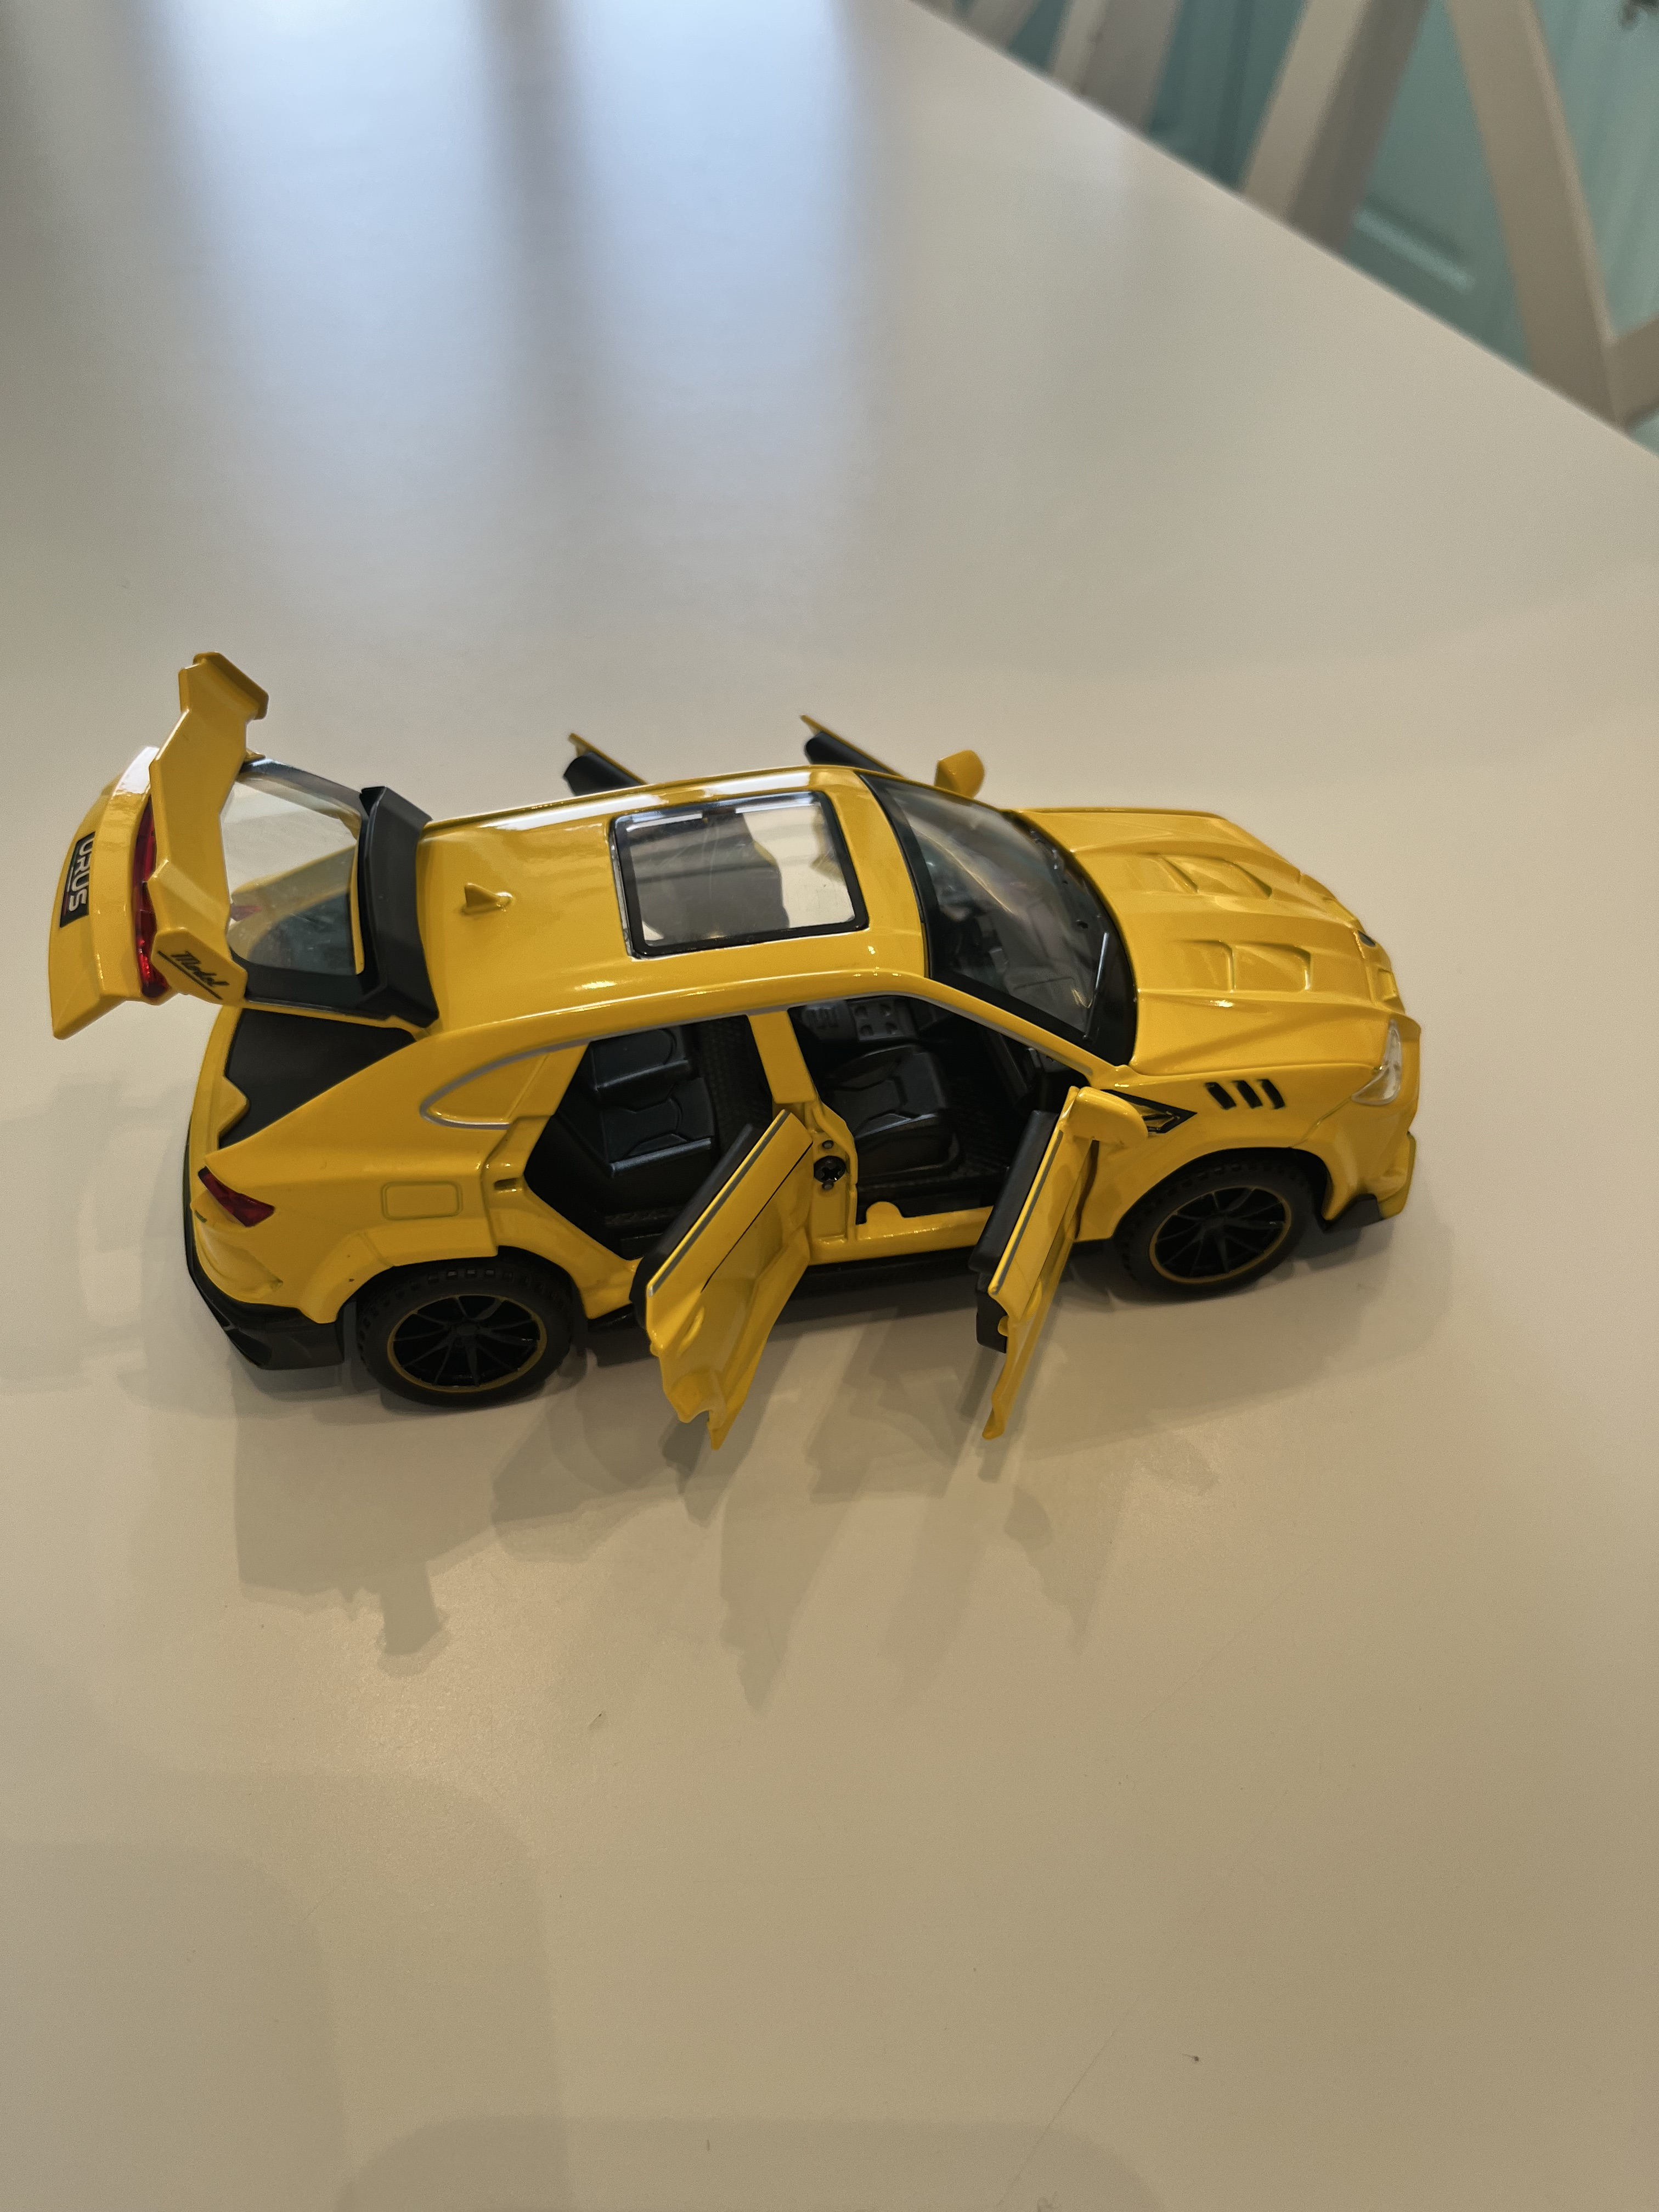lambo: (28, 603, 1441, 1489)
